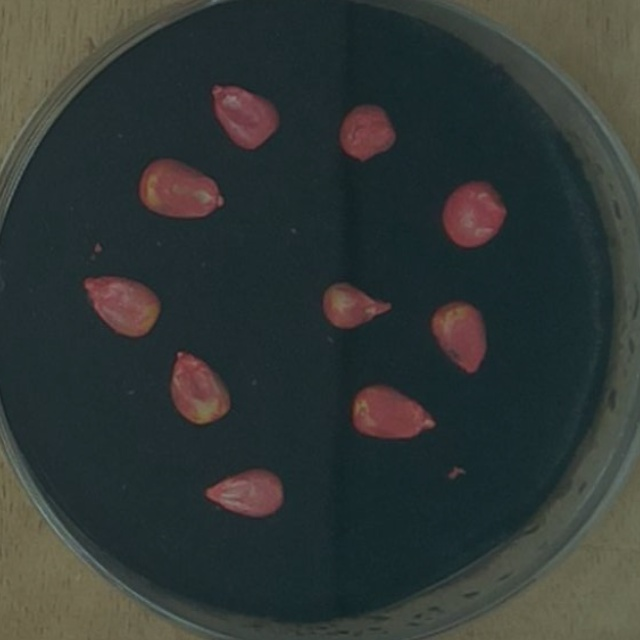Zea mays: (133, 149, 233, 226), (74, 266, 167, 347), (343, 374, 445, 447), (163, 339, 240, 432), (205, 73, 288, 158), (434, 171, 515, 256), (424, 291, 496, 383), (197, 458, 291, 525), (314, 269, 401, 339), (333, 93, 406, 169)
